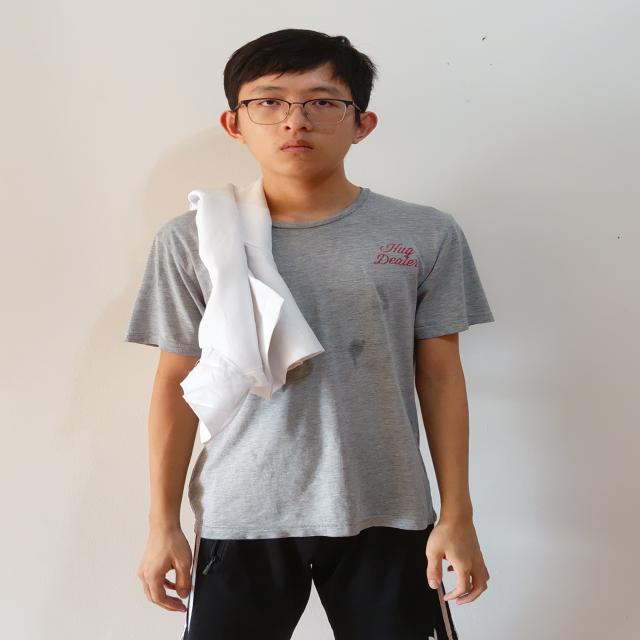person_without_labcoat: (126, 29, 493, 640)
